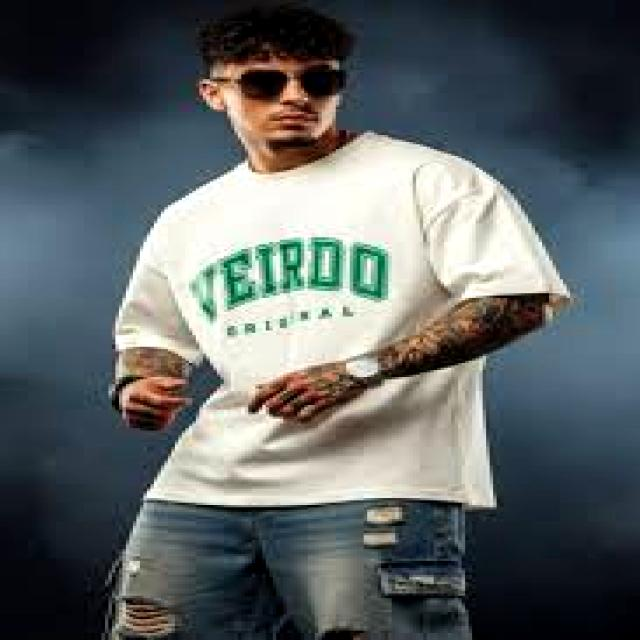face: (200, 56, 342, 148)
lower-wear: (105, 499, 472, 639)
top-wear: (116, 131, 570, 507)
